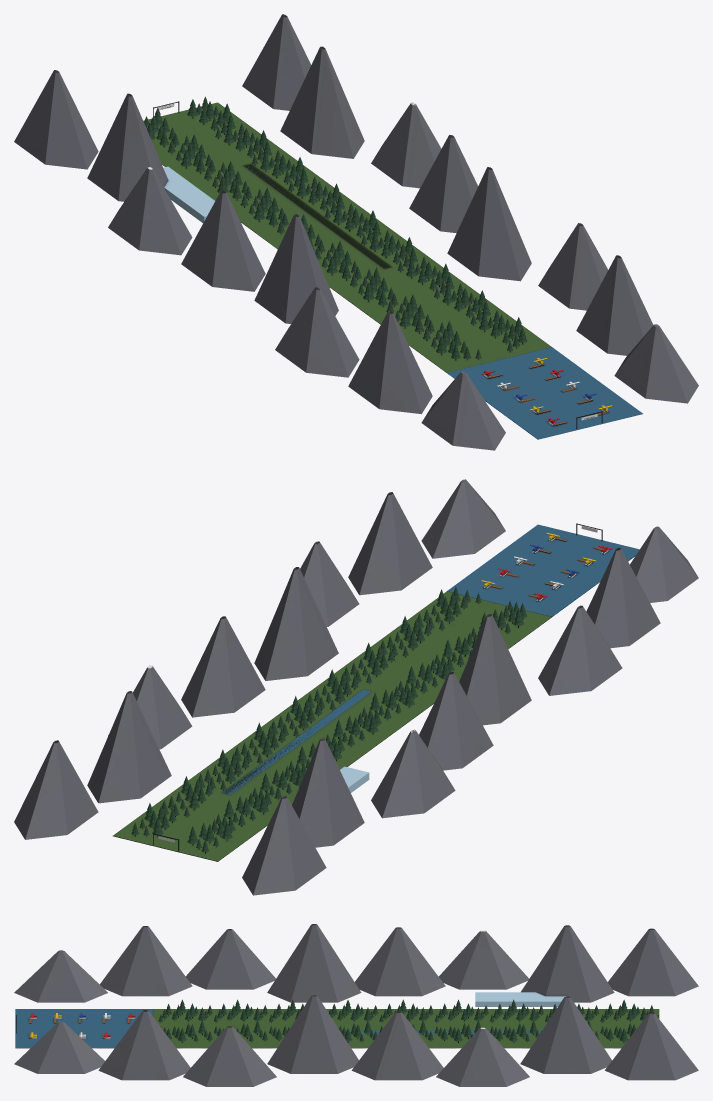
The model's file is vuelo_chugach.glb.
3 views of the same model, one above another, from view 1: azimuth 30°, elevation 25°; view 2: azimuth 150°, elevation 25°; view 3: azimuth 270°, elevation 25° (orthographic). The views are drawn at different scales.
Visible parts, largest first — view 1: vuelo_chugach; view 2: vuelo_chugach; view 3: vuelo_chugach.
Boxes of the visible parts, box(x1,y1,x2,y2) form: vuelo_chugach: box(14, 14, 698, 450); vuelo_chugach: box(14, 479, 698, 895); vuelo_chugach: box(14, 924, 698, 1086).
Bounding box in the file's own units: 180 × 49.25 × 447.
Materials: 1 (1 with a texture image).
